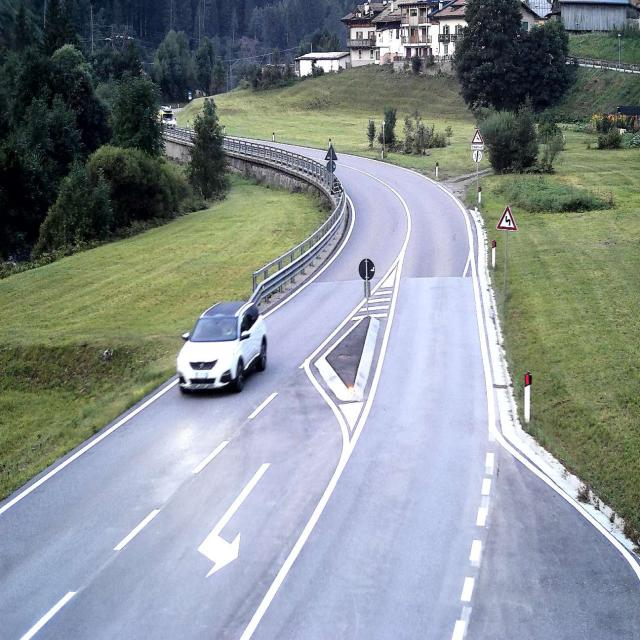car: (175, 299, 268, 393)
